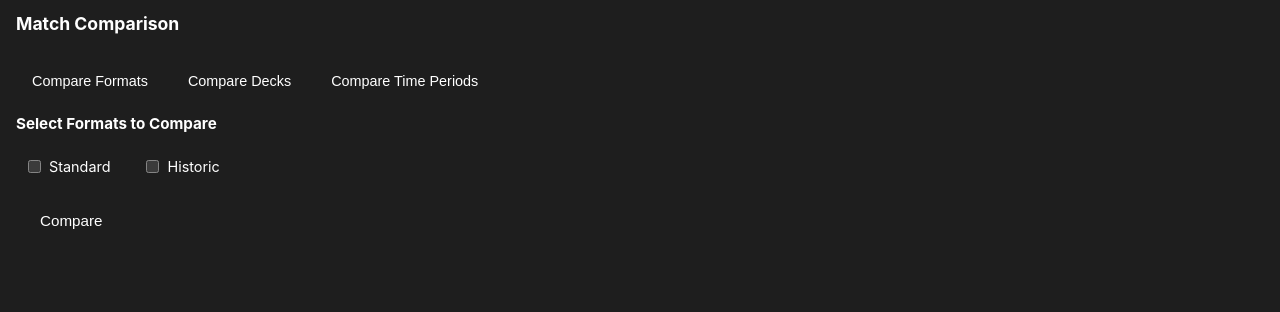
Test: MatchComparisonPanel › comparison execution › shows error when less than 2 formats selected
This screenshot has width=1280, height=312.
# Select only one format
Click the checkbox labelled "Standard".
click(34, 167)  # box [28,160,41,174]
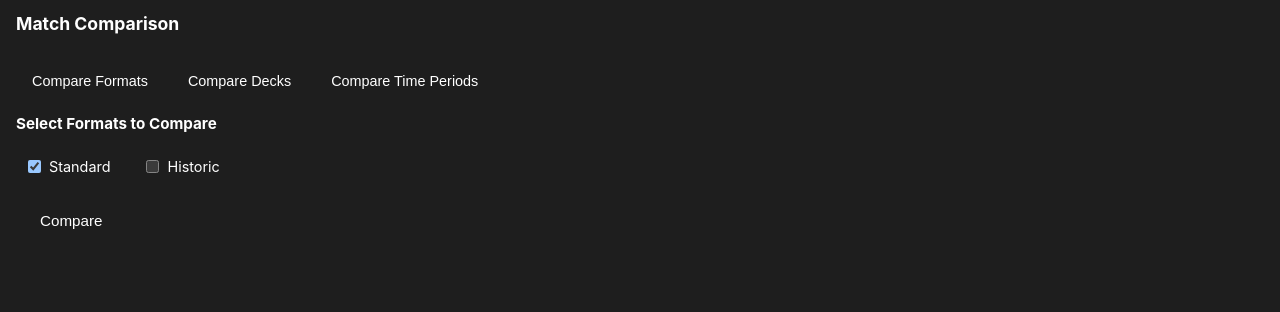
# Click compare
Click the button "Compare".
click(71, 220)  # box [16,202,126,239]
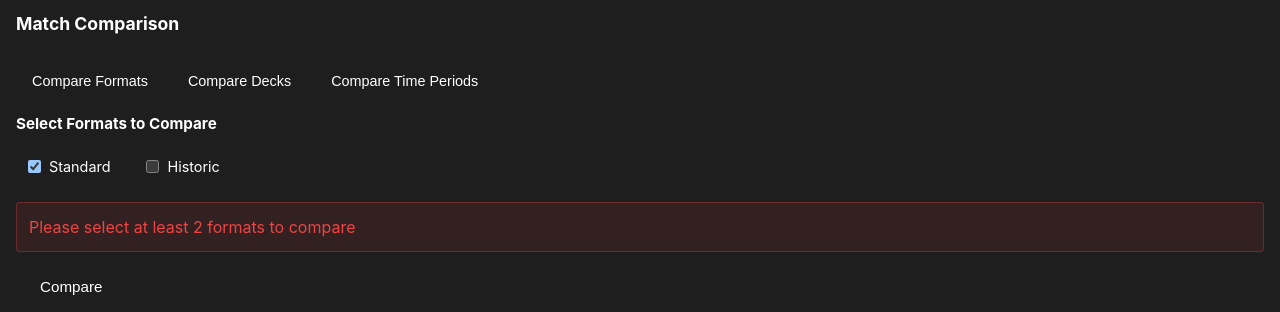
expect the text "Please select at least 2 formats to compare" is shown: met, box [16,202,1264,252]
